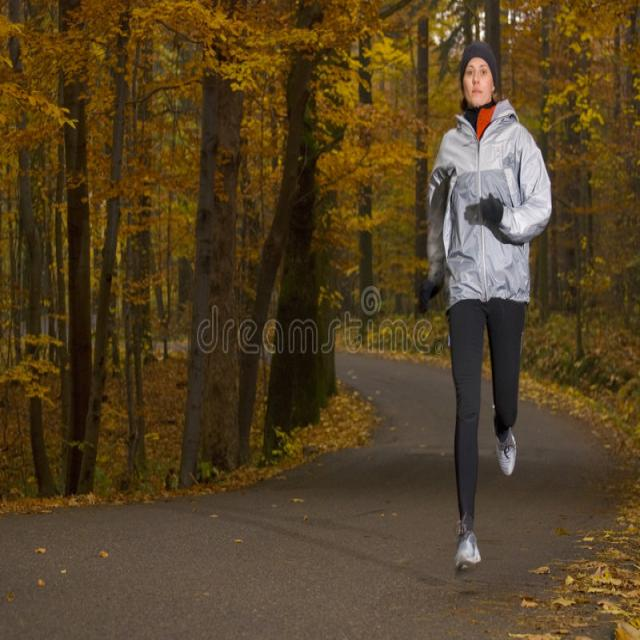running: (420, 41, 556, 573)
